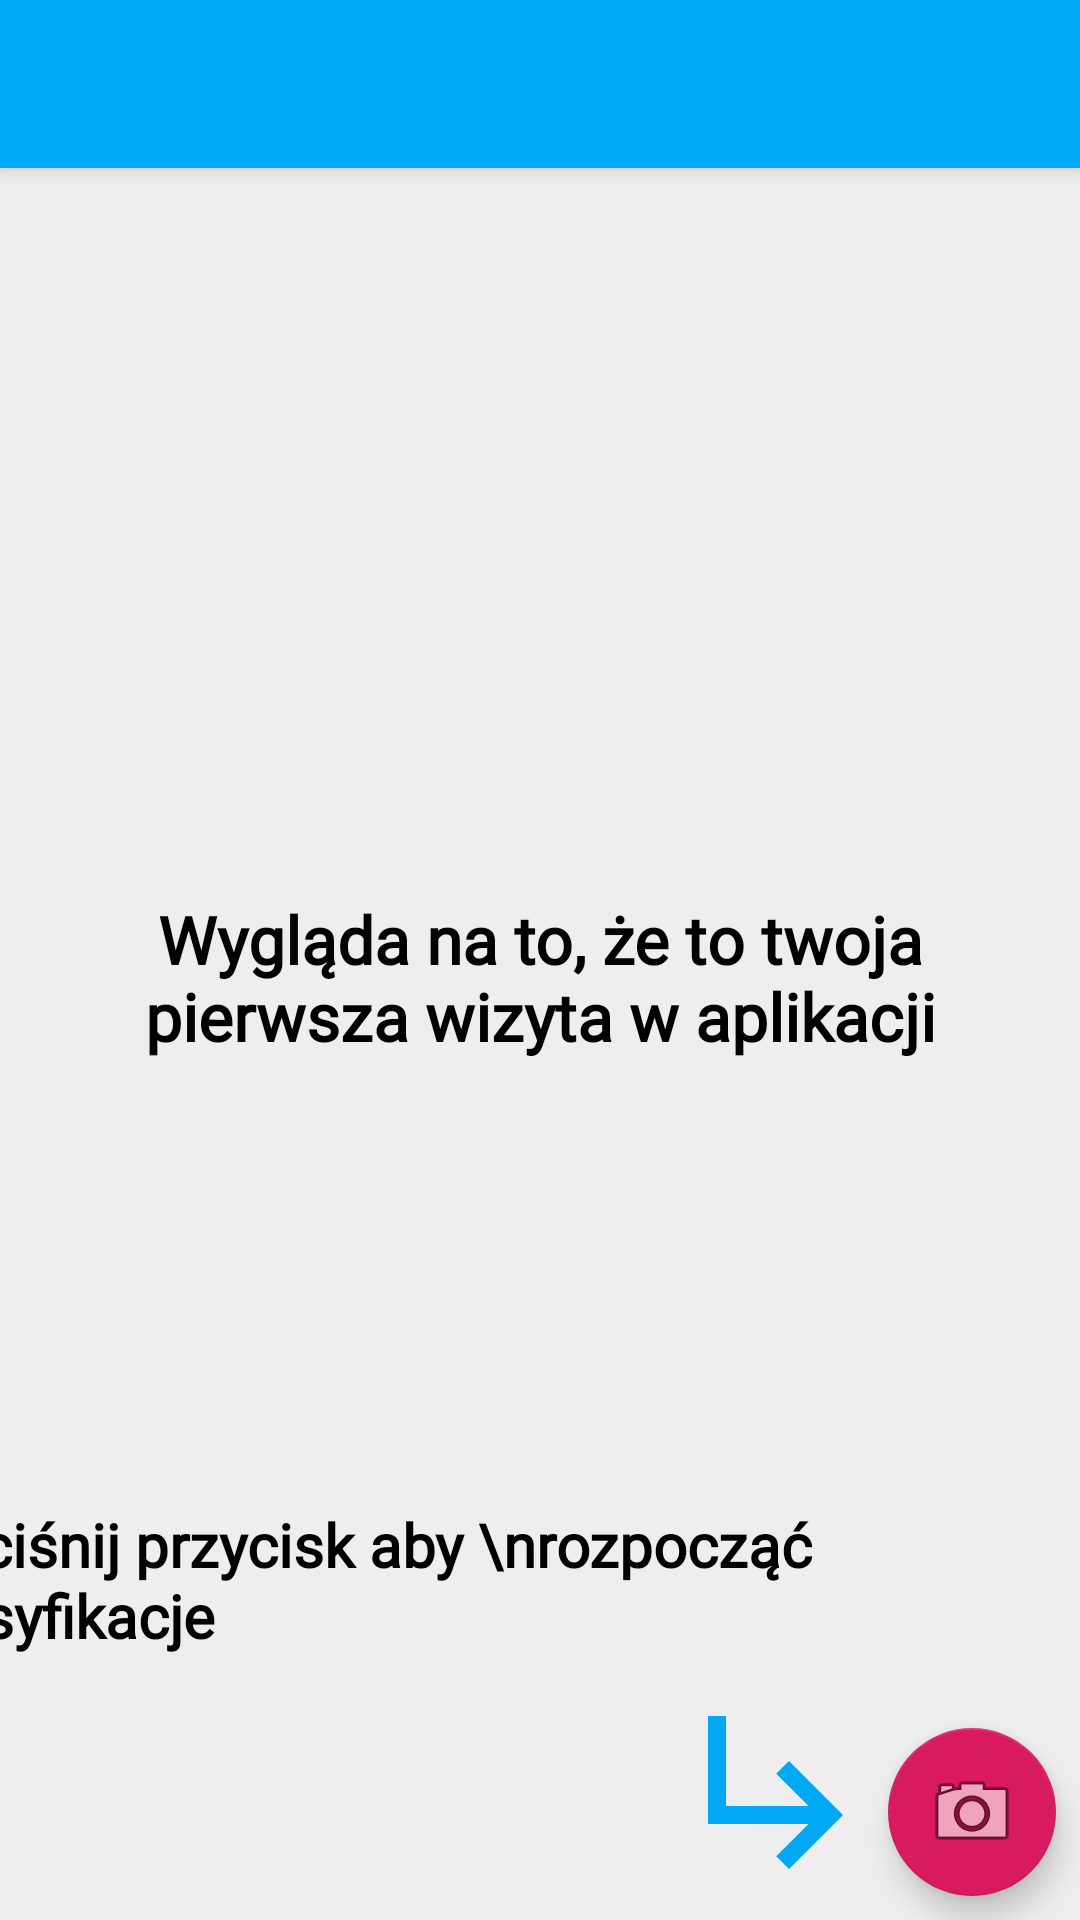

Where to tap for icons on this 1080px×1920px app screen, as (x=x, y=y):
subdirectory arrow right: (x=775, y=1792)
